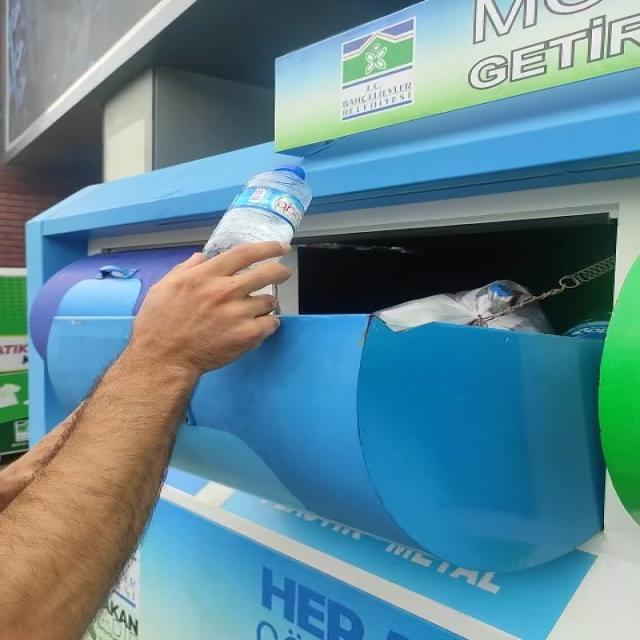plastic: (203, 166, 312, 257)
